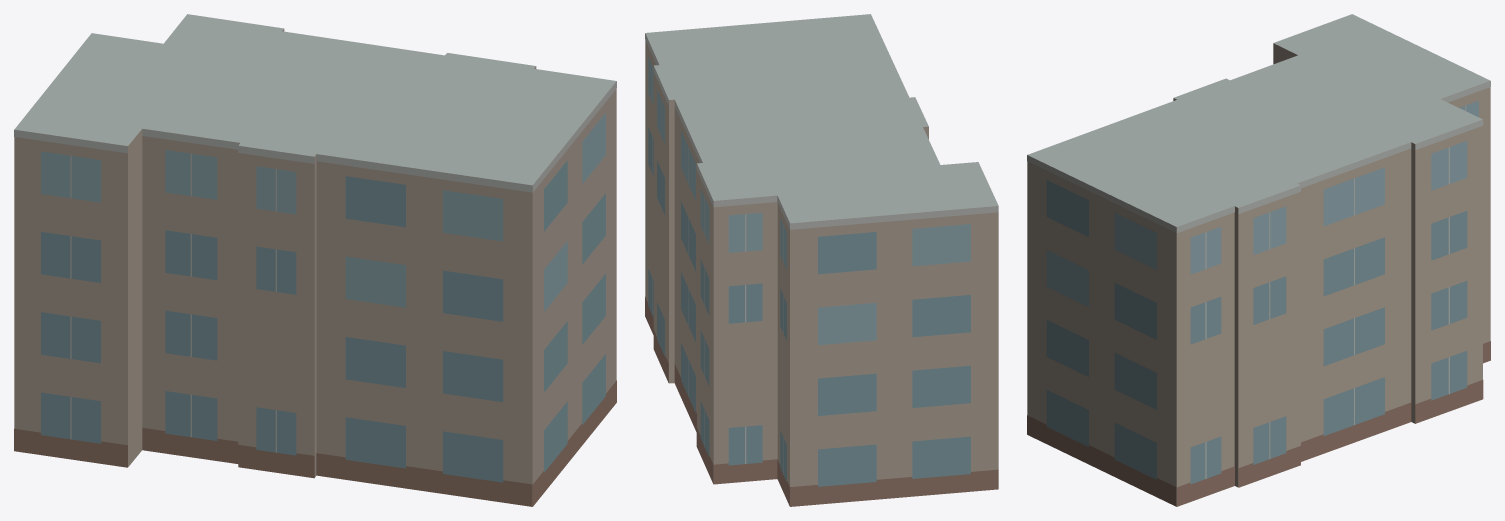
The model's file is survey-upis-32628723.glb.
The picture shows the model from 3 angles, left to right: view 1: azimuth 30°, elevation 25°; view 2: azimuth 150°, elevation 25°; view 3: azimuth 270°, elevation 25°; orthographic projection. The views are drawn at different scales.
Visible parts, largest first — view 1: survey-upis-32628723.tmp; view 2: survey-upis-32628723.tmp; view 3: survey-upis-32628723.tmp.
Boxes of the visible parts, <box> form: survey-upis-32628723.tmp: <box>14,14,616,506</box>; survey-upis-32628723.tmp: <box>645,14,998,506</box>; survey-upis-32628723.tmp: <box>1027,14,1490,506</box>.
Bounding box in the file's own units: 17.81 × 10.9 × 16.38.
